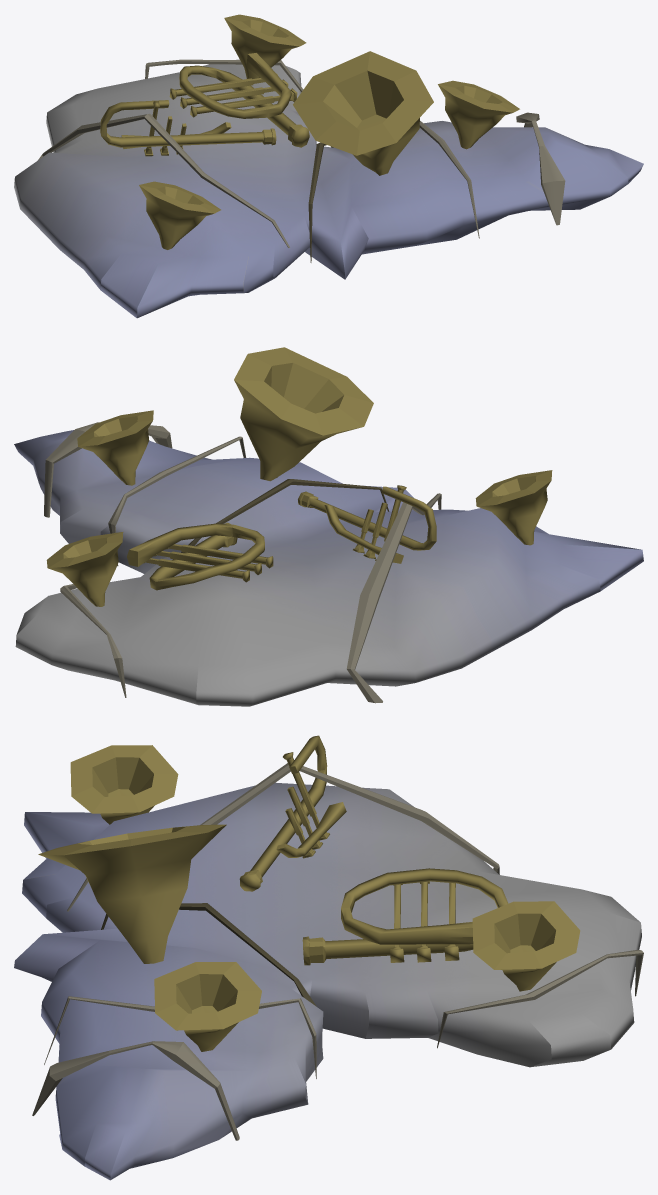
Rendered from 12_debris_b.fbx.
3 renders of one model, top to bottom at view 1: azimuth 30°, elevation 25°; view 2: azimuth 150°, elevation 25°; view 3: azimuth 270°, elevation 25°, orthographic. The views are drawn at different scales.
Visible parts, largest first — view 1: debris_b; view 2: debris_b; view 3: debris_b.
Boxes of the visible parts, <box> form: debris_b: <box>14,14,643,318</box>; debris_b: <box>14,347,643,706</box>; debris_b: <box>14,735,643,1180</box>.
Bounding box in the file's own units: 3242 × 890 × 2484.
